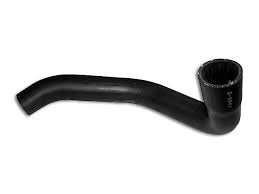radiator_hose: (17, 59, 243, 133)
